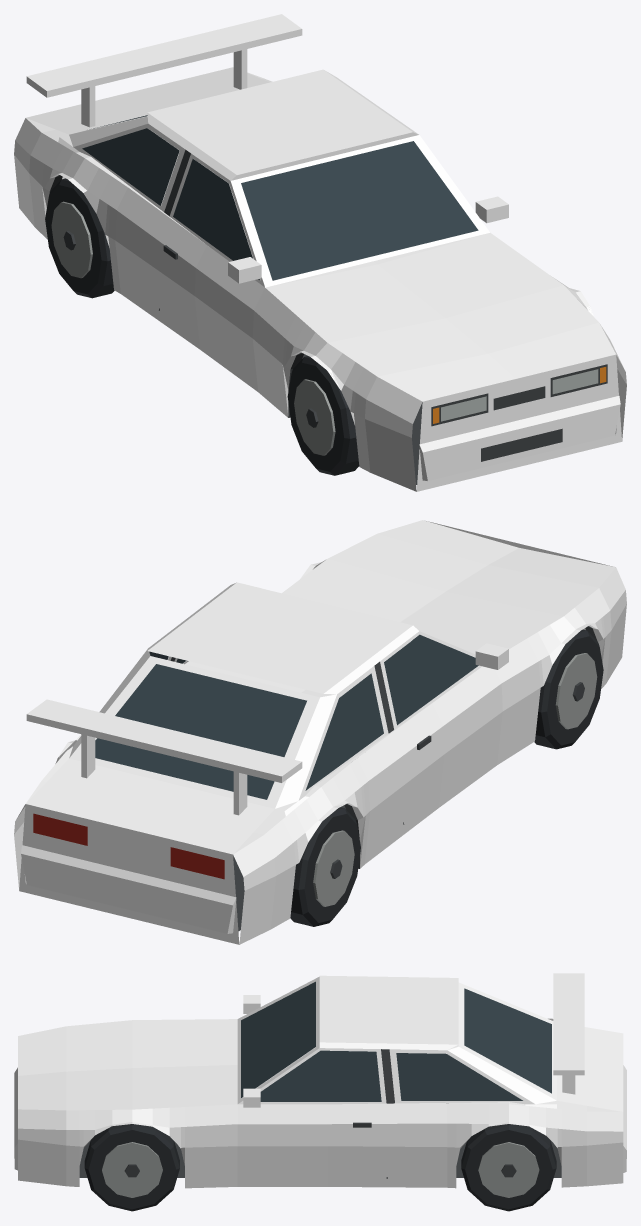
File: hayase_oborozuki_corrida.glb
3 views of the same model, one above another, from view 1: azimuth 30°, elevation 25°; view 2: azimuth 150°, elevation 25°; view 3: azimuth 270°, elevation 25° (orthographic). The views are drawn at different scales.
Visible parts, largest first — view 1: hayase_oborozuki_corrida; view 2: hayase_oborozuki_corrida; view 3: hayase_oborozuki_corrida.
Part boxes in pixels (left/top/right/bottom): hayase_oborozuki_corrida: left=14, top=14, right=626, bottom=491; hayase_oborozuki_corrida: left=14, top=520, right=626, bottom=944; hayase_oborozuki_corrida: left=14, top=973, right=626, bottom=1211.
Size of the model in its own units: 1.69 by 1.19 by 4.28.
8 materials, 1 textured.
